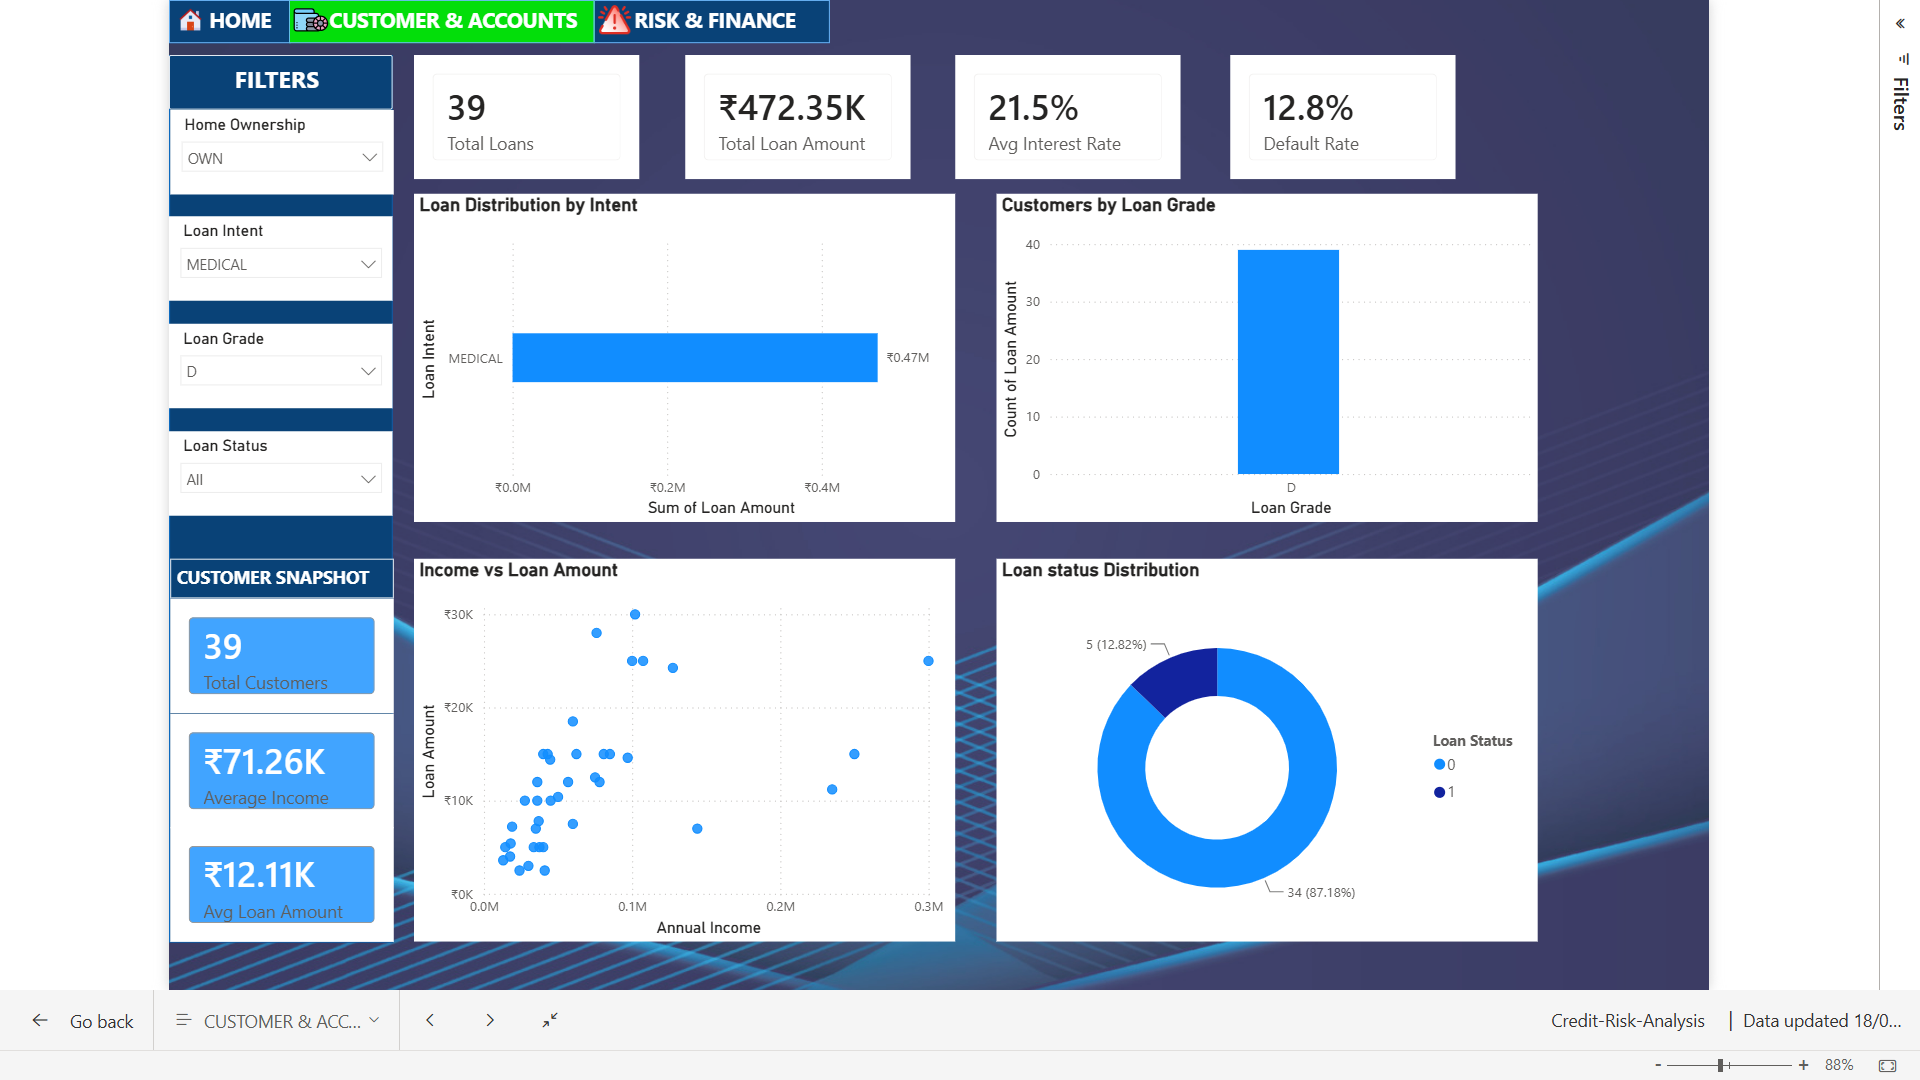

Layout of this report page (visuals, bound fields, positions):
{"tool":"powerbi","page":{"name":"CUSTOMER & ACCOUNTS","canvas":[1400,900],"ordinal":1},"visuals":[{"type":"shape","box":[0,0,110.1,39.2],"z":0},{"type":"textbox","box":[0,0,110.1,39.2],"z":1000},{"type":"actionButton","box":[0,0,110.1,39.2],"z":2000},{"type":"textbox","box":[386.1,0,214.1,39.2],"z":3000},{"type":"actionButton","box":[1226,143.3,162.9,39.2],"z":4000},{"type":"image","box":[1.5,6,36.2,24.1],"z":5000},{"type":"shape","box":[0,49.8,203.6,806.8],"z":6000},{"type":"image","box":[386.1,1.5,37.7,34.7],"z":7000},{"type":"textbox","box":[0,49.8,203.6,49.8],"z":8000},{"type":"slicer","fields":{"Values":["credit_risk_dataset.Loan Intent"]},"box":[0,196,203.6,76.9],"z":9000},{"type":"slicer","fields":{"Values":["credit_risk_dataset.Home Ownership"]},"box":[1.5,99.5,203.6,76.9],"z":10000},{"type":"slicer","fields":{"Values":["credit_risk_dataset.Loan Grade"]},"box":[0,294.1,203.6,76.9],"z":11000},{"type":"slicer","fields":{"Values":["credit_risk_dataset.Loan Status"]},"box":[0,392.1,203.6,76.9],"z":12000},{"type":"textbox","box":[1.5,508.2,203.6,36.2],"z":13000},{"type":"cardVisual","fields":{"Data":["credit_risk_dataset.Total Customers"]},"box":[1.5,544.4,203.6,104.1],"z":14000},{"type":"cardVisual","fields":{"Data":["credit_risk_dataset.Average Annual Income"]},"box":[1.5,648.5,203.6,104.1],"z":15000},{"type":"cardVisual","fields":{"Data":["credit_risk_dataset.Average Loan Amount"]},"box":[1.5,752.5,203.6,104.1],"z":16000},{"type":"actionButton","box":[386.1,0,214.1,37.7],"z":17000},{"type":"cardVisual","fields":{"Data":["credit_risk_dataset.Total Loan Amount"]},"box":[469,49.8,205.1,113.1],"z":18000},{"type":"cardVisual","fields":{"Data":["CountNonNull(credit_risk_dataset.Loan Amount)"]},"box":[223.2,49.8,205.1,113.1],"z":19000},{"type":"cardVisual","fields":{"Data":["credit_risk_dataset.Average Loan Income Ratio"]},"box":[714.8,49.8,205.1,113.1],"z":20000},{"type":"cardVisual","fields":{"Data":["credit_risk_dataset.Default Rate"]},"box":[965.2,49.8,205.1,113.1],"z":21000},{"type":"clusteredBarChart","title":"Loan Distribution by Intent","fields":{"Category":["credit_risk_dataset.Loan Intent"],"Y":["Sum(credit_risk_dataset.Loan Amount)"]},"box":[223.2,176.4,491.6,298.6],"z":22000},{"type":"columnChart","title":"Customers by Loan Grade","fields":{"Category":["credit_risk_dataset.Loan Grade"],"Y":["CountNonNull(credit_risk_dataset.Loan Amount)"]},"box":[752.5,176.4,491.6,298.6],"z":23000},{"type":"scatterChart","title":"Income vs Loan Amount","fields":{"X":["credit_risk_dataset.Annual Income"],"Y":["credit_risk_dataset.Loan Amount"]},"box":[223.2,508.2,491.6,348.4],"z":24000},{"type":"donutChart","title":"Loan status Distribution","fields":{"Category":["credit_risk_dataset.Loan Status"],"Y":["CountNonNull(credit_risk_dataset.Loan Status)"]},"box":[752.5,508.2,491.6,348.4],"z":25000},{"type":"textbox","box":[108.6,0,277.5,39.2],"z":26000},{"type":"image","box":[110.1,0,37.7,36.2],"z":27000}]}

Visuals, with their boxes on the page's 1400x900 design canvas (x1, y1, x2, y2). These are canvas units, not pixel positions in the 1920x1080 screenshot, which may show the page scaled, cropped or inside an application window:
shape: 0 0 110 39
textbox: 0 0 110 39
actionButton: 0 0 110 39
textbox: 386 0 600 39
actionButton: 1226 143 1389 182
image: 2 6 38 30
shape: 0 50 204 857
image: 386 2 424 36
textbox: 0 50 204 100
slicer - credit_risk_dataset.Loan Intent: 0 196 204 273
slicer - credit_risk_dataset.Home Ownership: 2 100 205 176
slicer - credit_risk_dataset.Loan Grade: 0 294 204 371
slicer - credit_risk_dataset.Loan Status: 0 392 204 469
textbox: 2 508 205 544
cardVisual - credit_risk_dataset.Total Customers: 2 544 205 648
cardVisual - credit_risk_dataset.Average Annual Income: 2 648 205 753
cardVisual - credit_risk_dataset.Average Loan Amount: 2 752 205 857
actionButton: 386 0 600 38
cardVisual - credit_risk_dataset.Total Loan Amount: 469 50 674 163
cardVisual - CountNonNull(credit_risk_dataset.Loan Amount): 223 50 428 163
cardVisual - credit_risk_dataset.Average Loan Income Ratio: 715 50 920 163
cardVisual - credit_risk_dataset.Default Rate: 965 50 1170 163
"Loan Distribution by Intent" clusteredBarChart: 223 176 715 475
"Customers by Loan Grade" columnChart: 752 176 1244 475
"Income vs Loan Amount" scatterChart: 223 508 715 857
"Loan status Distribution" donutChart: 752 508 1244 857
textbox: 109 0 386 39
image: 110 0 148 36
